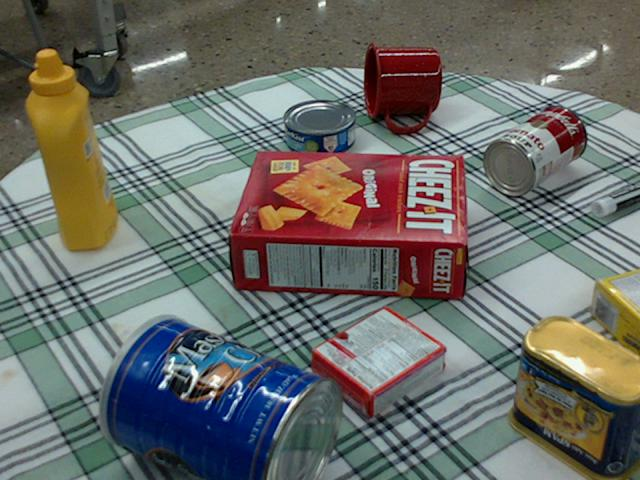cracker_box: (227, 148, 463, 300)
gelatin_box: (310, 306, 447, 414)
large_marker: (591, 184, 639, 215)
master_chef_can: (96, 317, 341, 479)
mug: (362, 41, 442, 131)
mustard_bottle: (26, 49, 116, 250)
potted_meat_can: (508, 313, 639, 479)
sugar_box: (592, 271, 639, 363)
tomato_soup_can: (483, 105, 586, 194)
tuna_fish_can: (283, 99, 355, 155)
